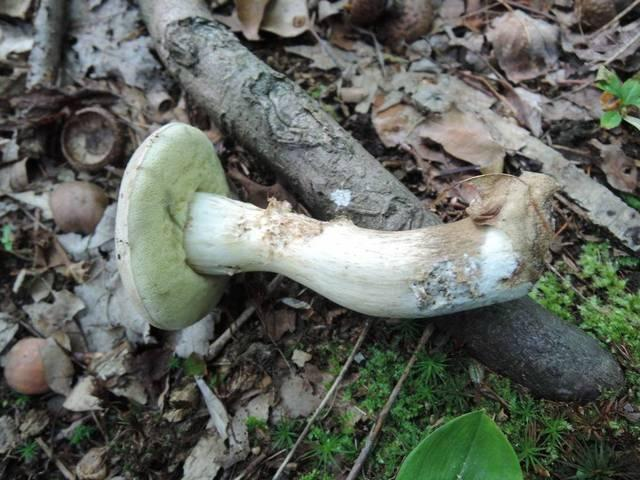Edible Mushroom: (113, 120, 625, 402)
